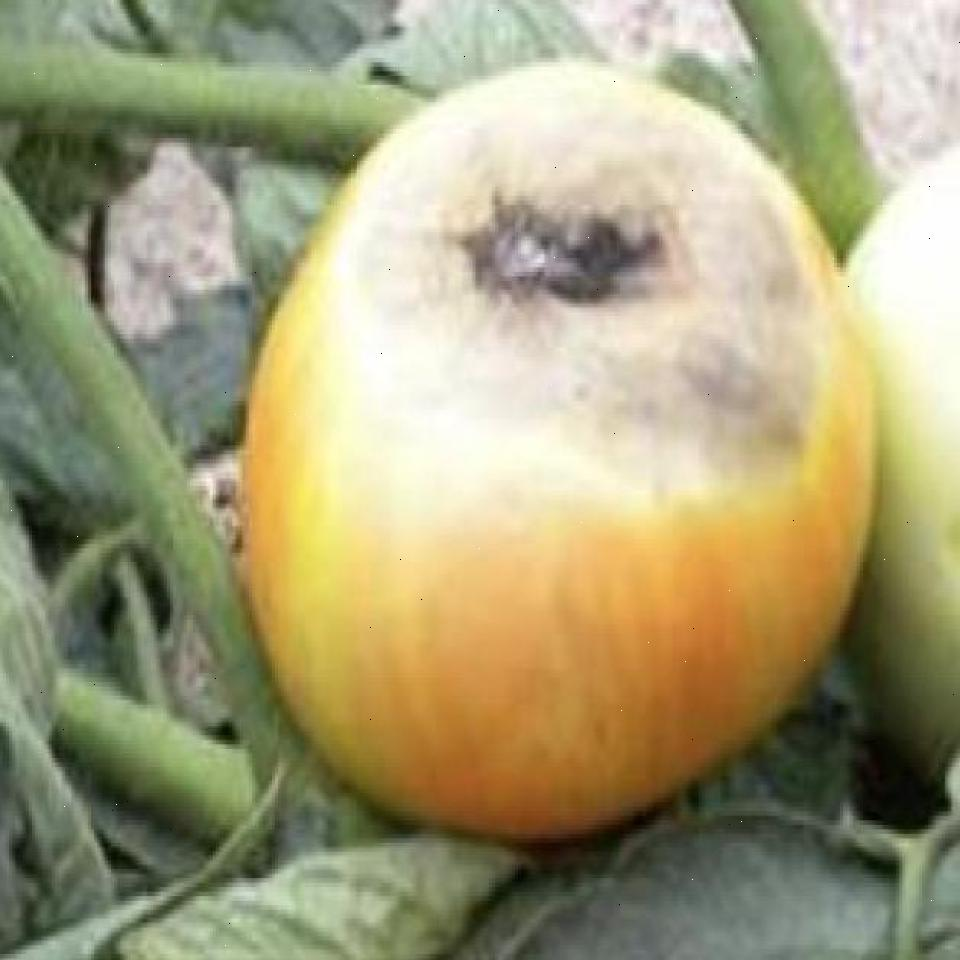Blossom_end_rot: (421, 160, 657, 326)
